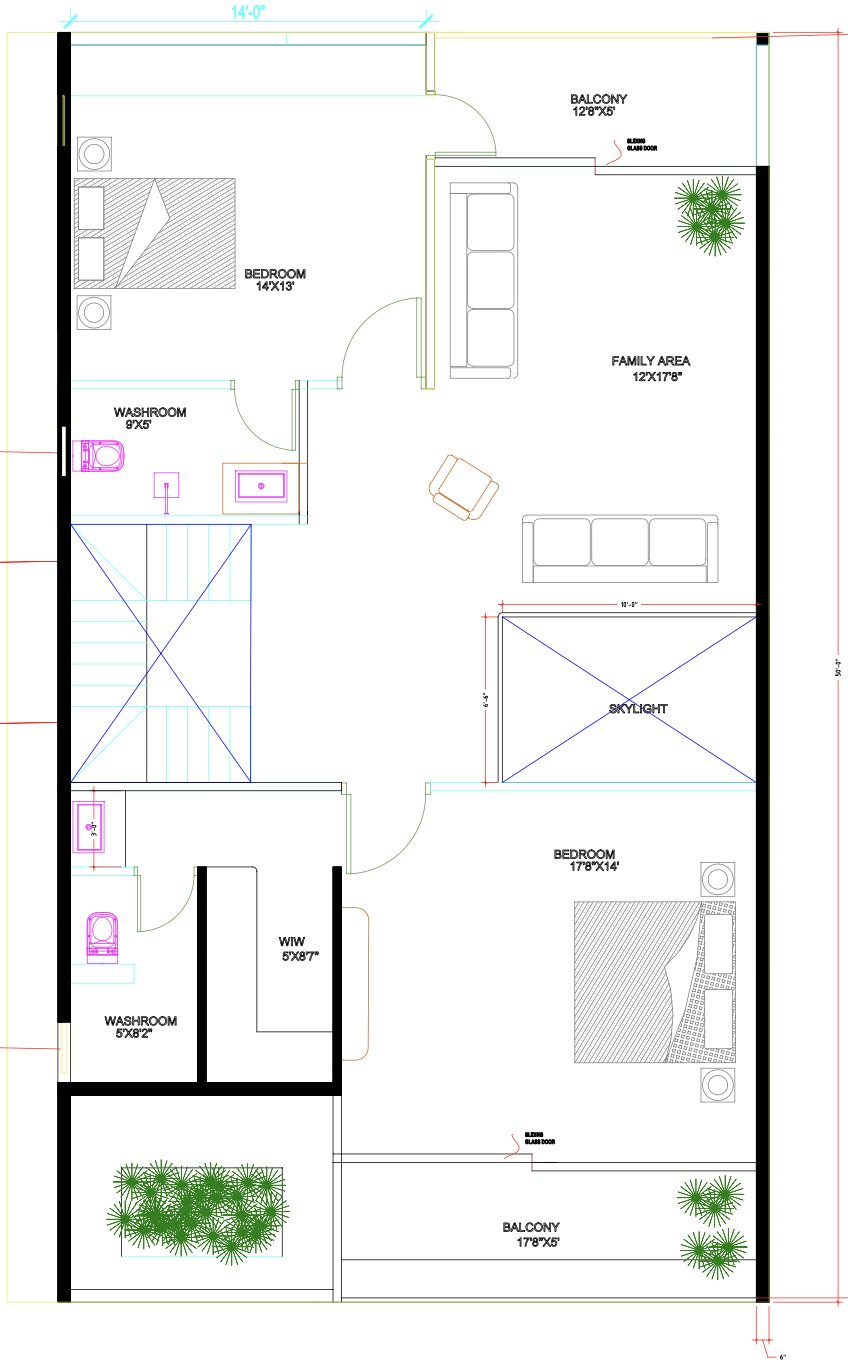door: (338, 785, 431, 876), (338, 295, 425, 390), (227, 379, 298, 454), (427, 89, 501, 160), (133, 866, 197, 934)
